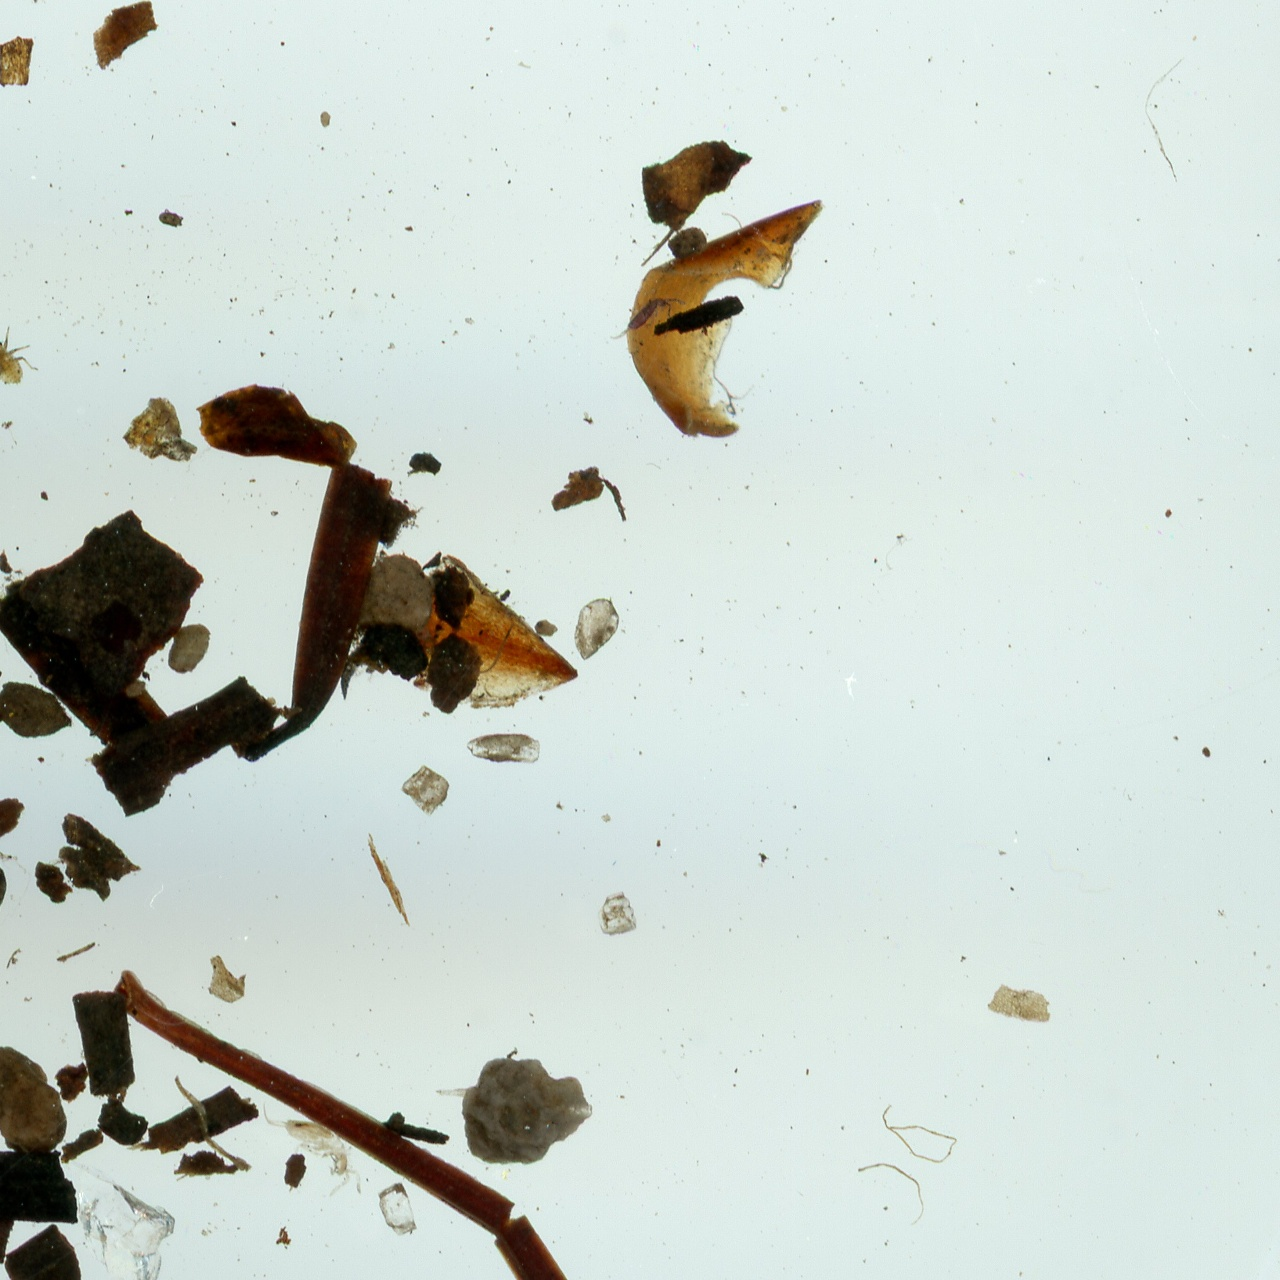arthropod: (237, 1091, 382, 1211), (0, 311, 41, 392)
